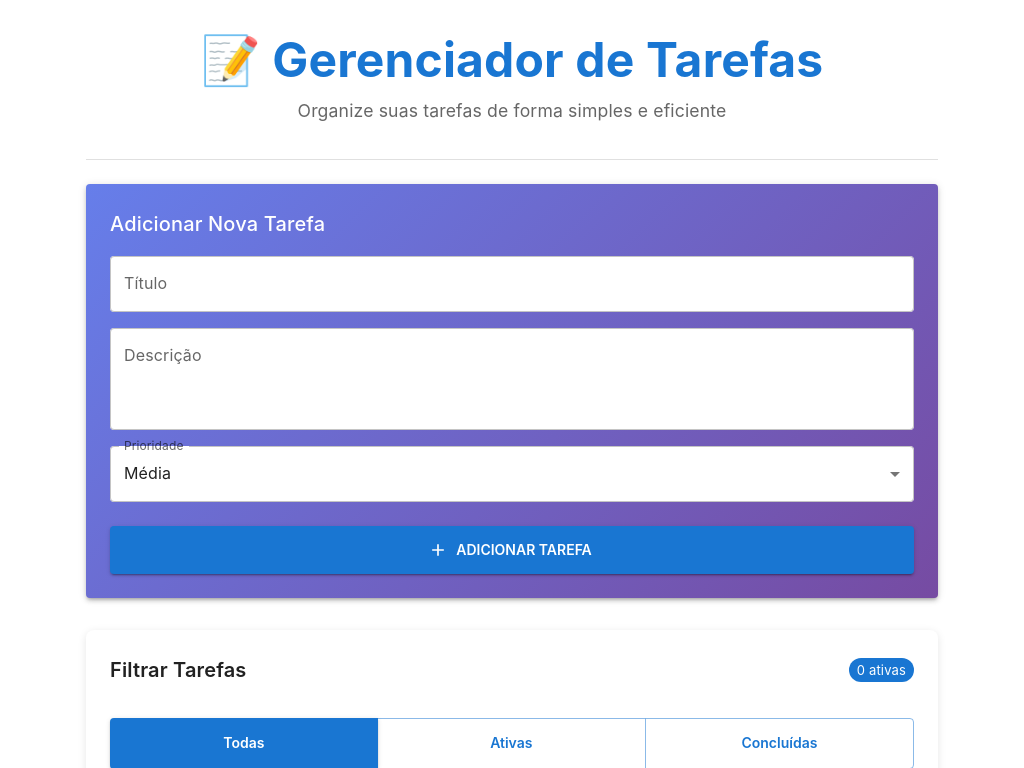
it: Integração: Fluxo Completo de Tarefas › Cenário 1: Adicionar e Visualizar Tarefas › deve permitir adicionar múltiplas tarefas e visualizá-las
Check: the element with test id "contador-ativas" reads "0 ativas", box [857,662,906,678]
Type "Estudar React" into the field labelled "Título".
click(512, 284); type("Estudar React")  # box [110,256,914,312]
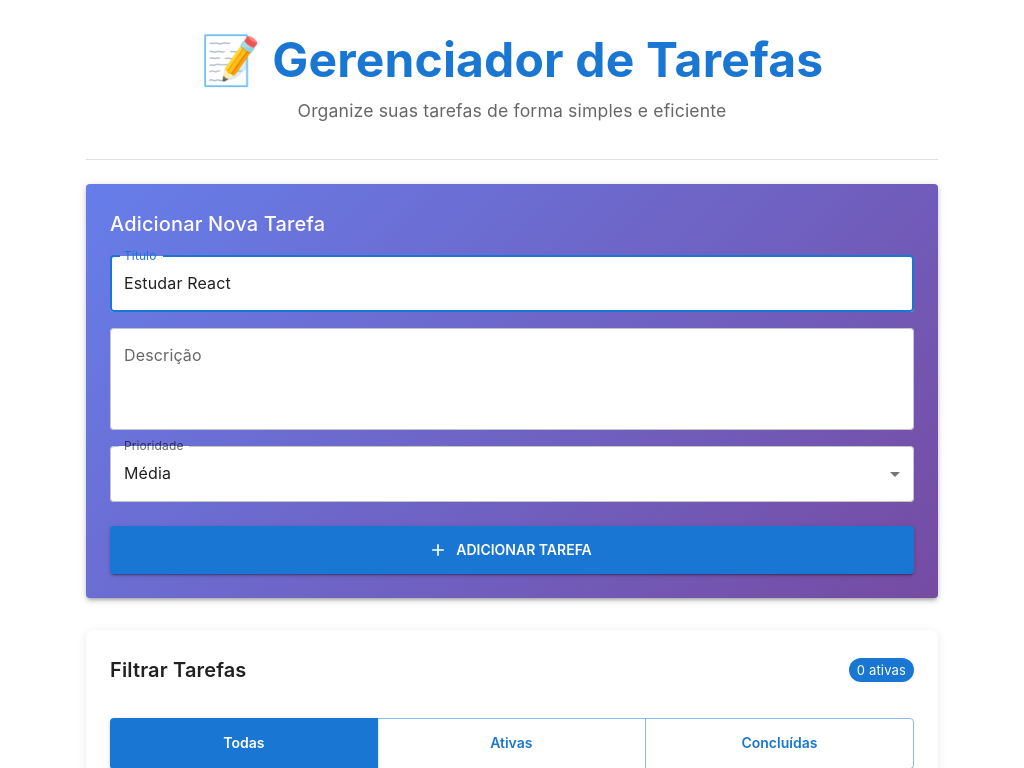
Type "Revisar hooks e componentes" into the text box labelled "Descrição".
click(512, 379); type("Revisar hooks e componentes")  # box [124,344,900,413]
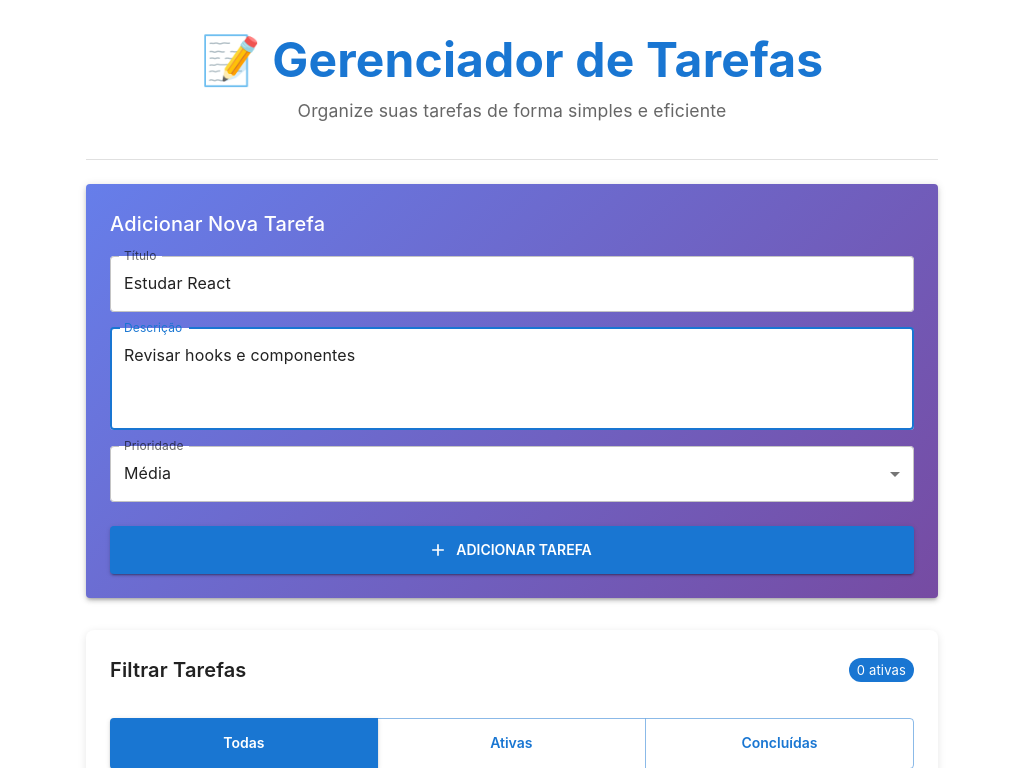
Click the button with test id "botao-adicionar".
click(512, 550)  # box [110,526,914,574]
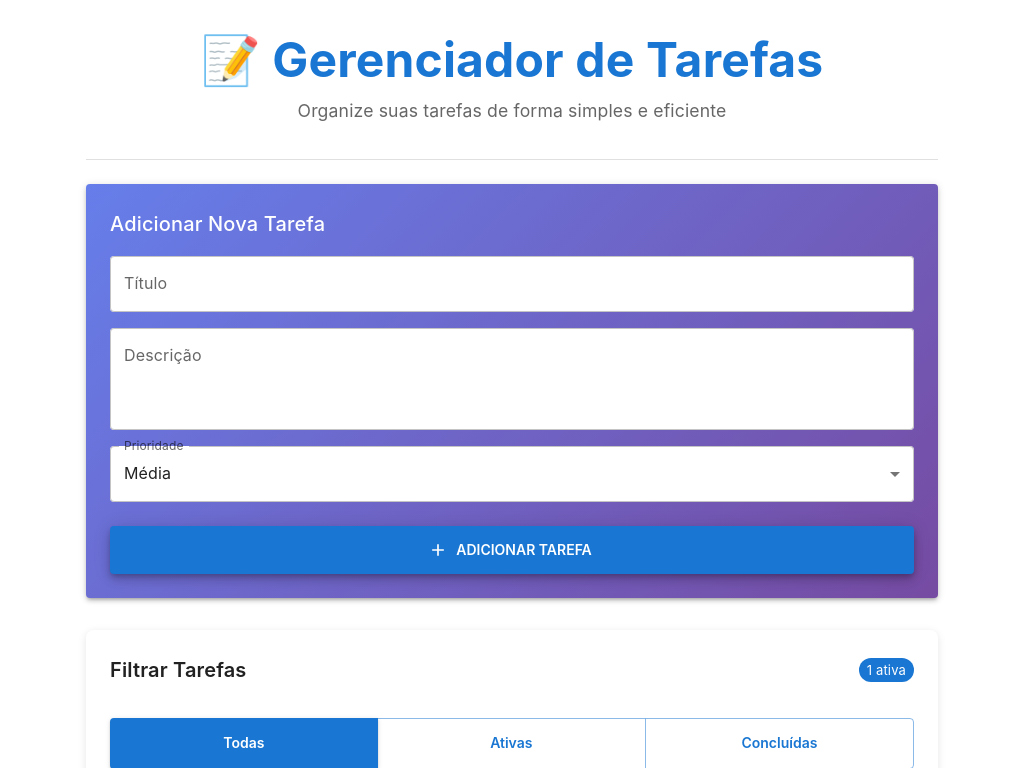
Check: the element with test id "contador-ativas" reads "1 ativa", box [867,662,906,678]
Adiciona segunda tarefa
Type "Fazer exercícios" into the field labelled "Título".
click(512, 284); type("Fazer exercícios")  # box [110,256,914,312]
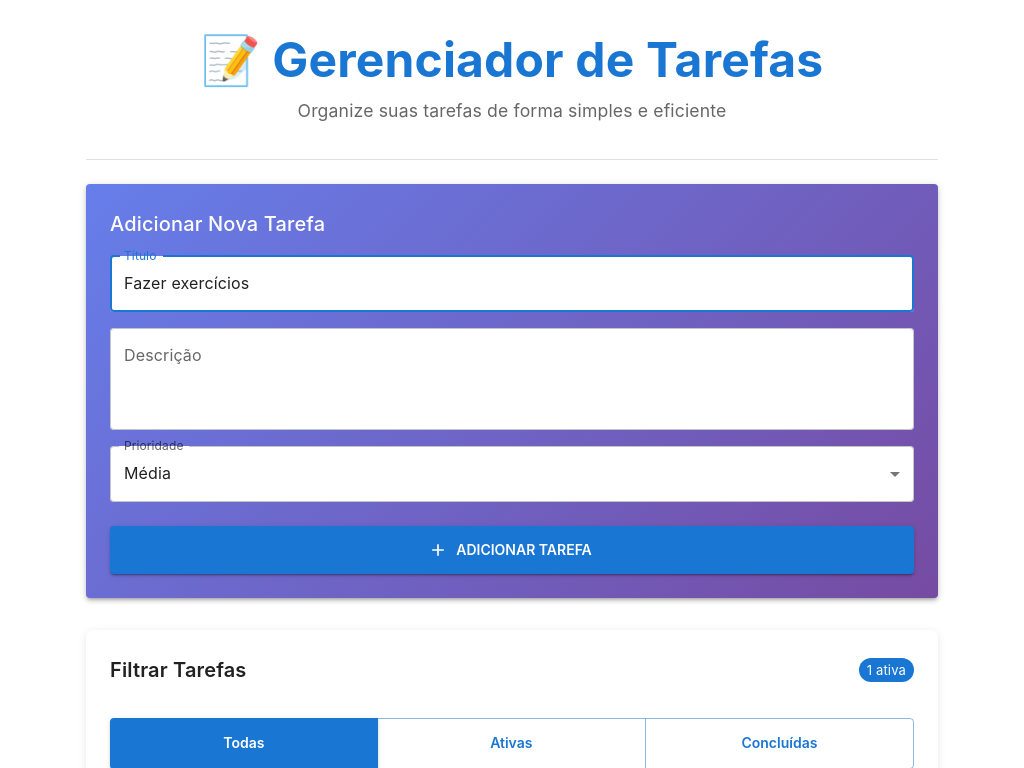
Type "Praticar testes unitários" into the text box labelled "Descrição".
click(512, 379); type("Praticar testes unitários")  # box [124,344,900,413]
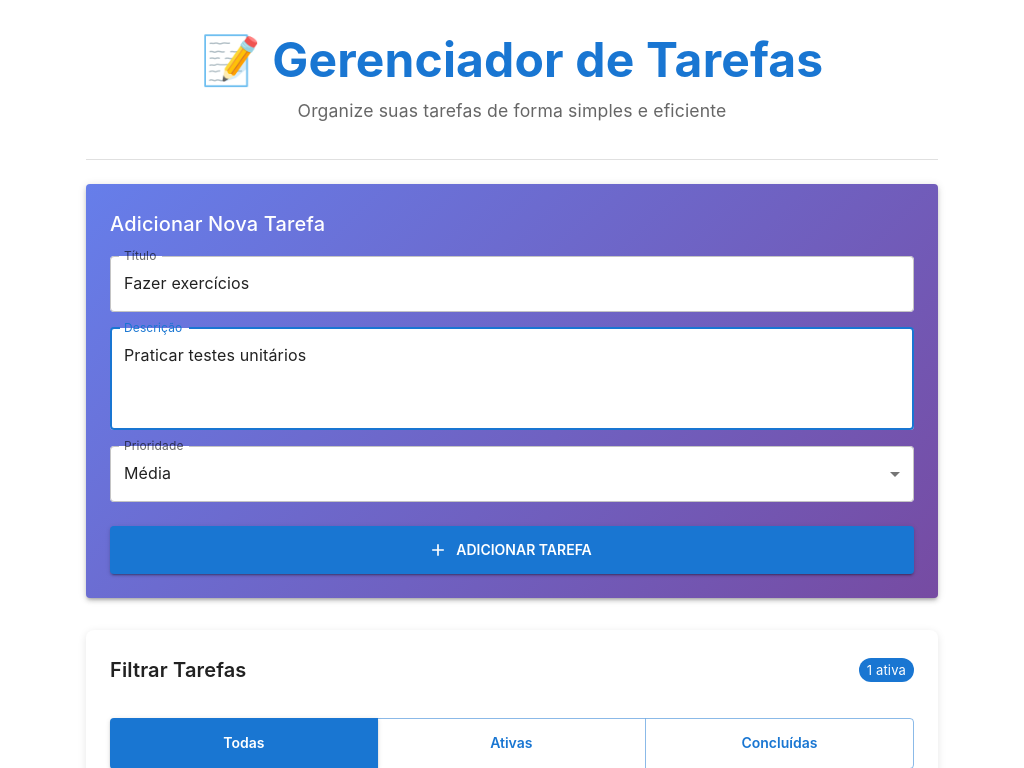
Click the button with test id "botao-adicionar".
click(512, 550)  # box [110,526,914,574]
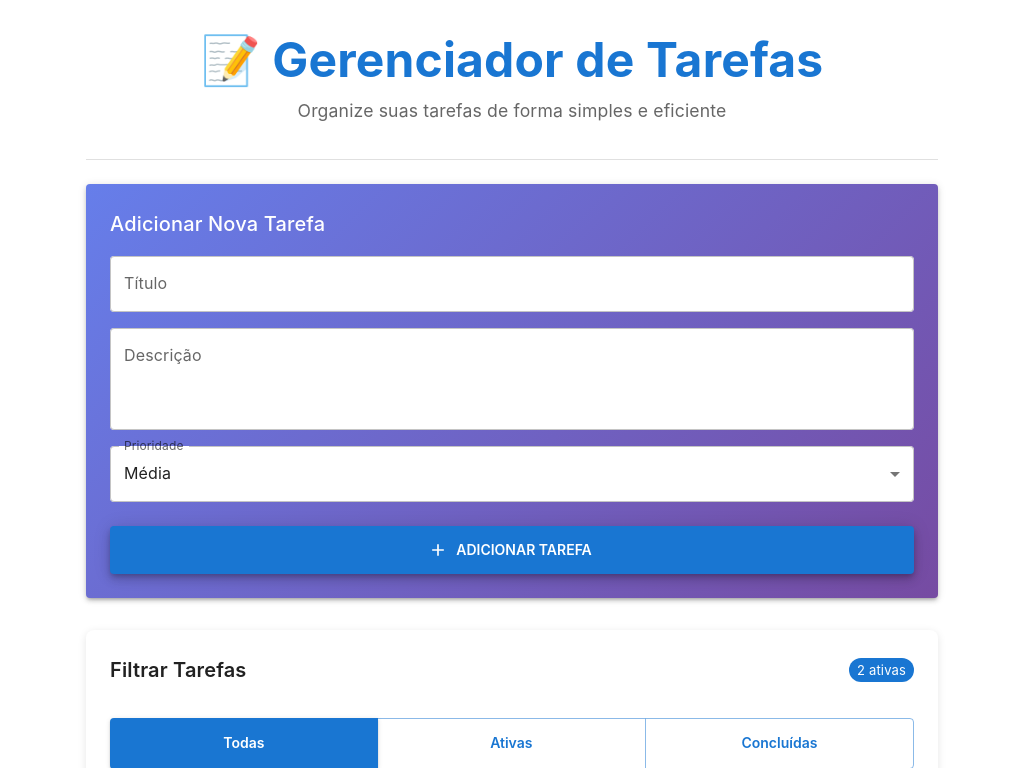
Check: the element with test id "contador-ativas" reads "2 ativas", box [857,662,906,678]
